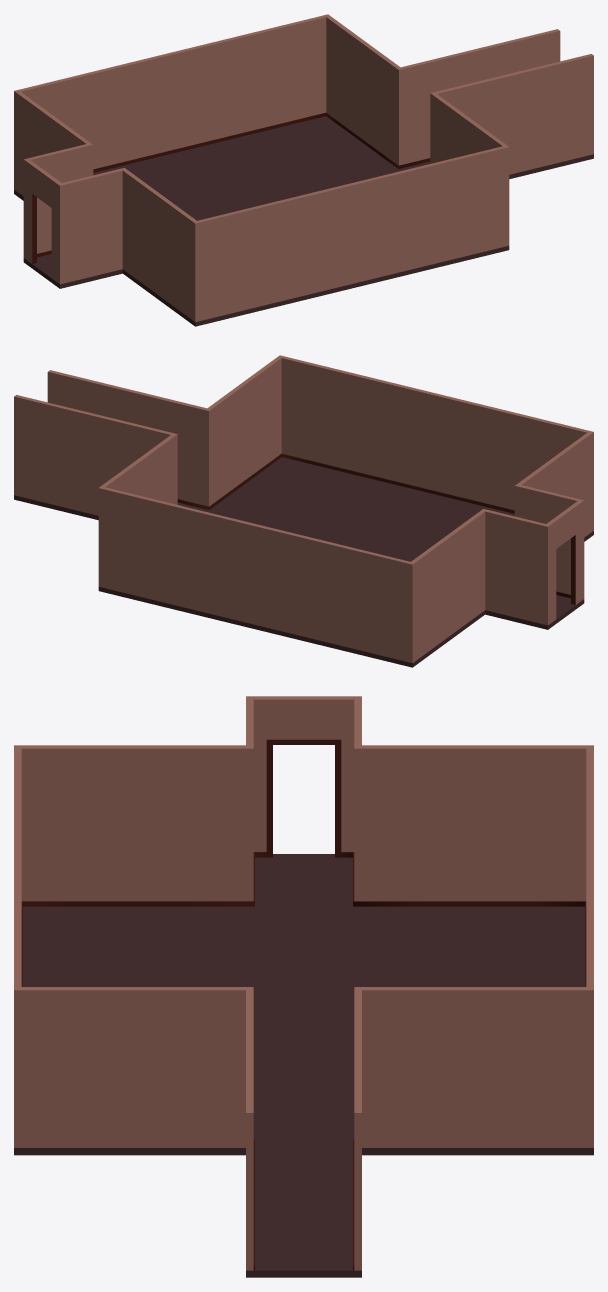
File: Deni_Murs.fbx
The picture shows the model from 3 angles, top to bottom: view 1: azimuth 30°, elevation 25°; view 2: azimuth 150°, elevation 25°; view 3: azimuth 270°, elevation 25°; orthographic projection. The views are drawn at different scales.
Parts seen in each view (by area): view 1: Deni_Murs; view 2: Deni_Murs; view 3: Deni_Murs.
Boxes of the visible parts, box(x1,y1,x2,y2) form: Deni_Murs: box(14, 14, 593, 326); Deni_Murs: box(14, 355, 593, 667); Deni_Murs: box(14, 696, 593, 1277).
Bounding box in the file's own units: 1700 × 313 × 1000.
